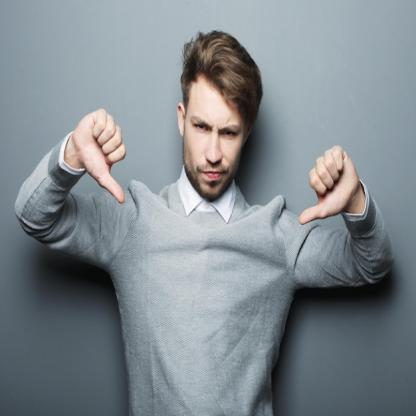thumb_down: (296, 140, 362, 226), (72, 104, 128, 205)
